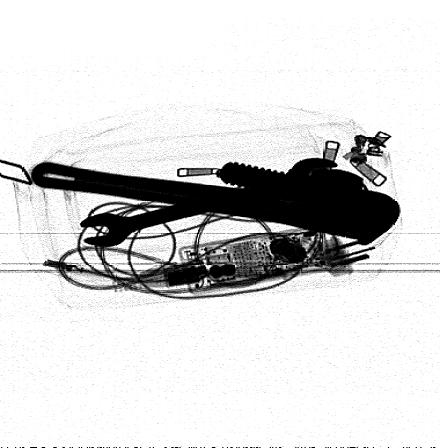Wrench: (30, 160, 402, 245), (79, 158, 343, 249)
